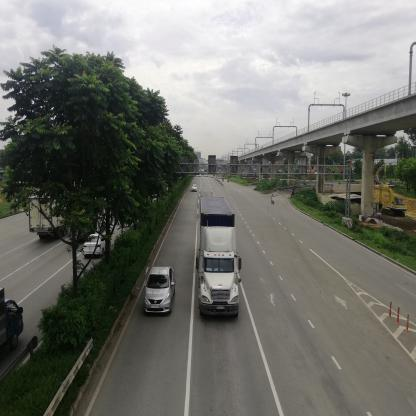car: (147, 268, 176, 318), (84, 230, 109, 260), (192, 185, 198, 195)
container: (198, 197, 238, 317)
motorbike: (270, 195, 276, 206)
truck: (1, 285, 28, 358)
